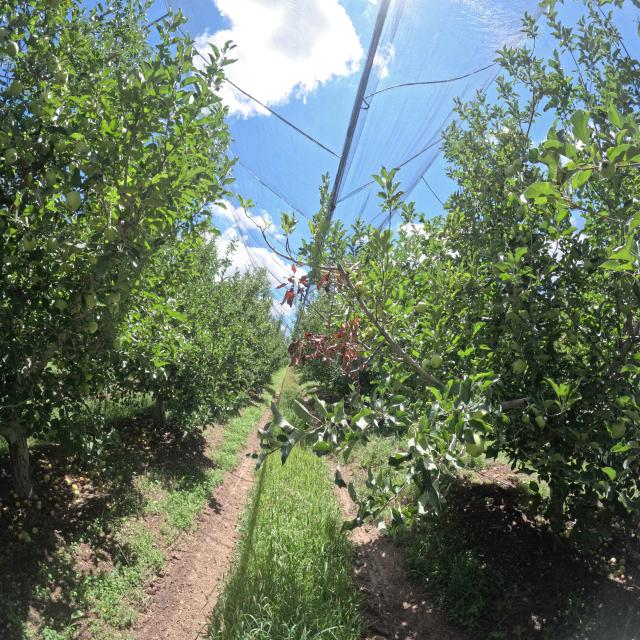-FireBlight-: (288, 318, 368, 376), (278, 268, 310, 306), (318, 266, 348, 300)
